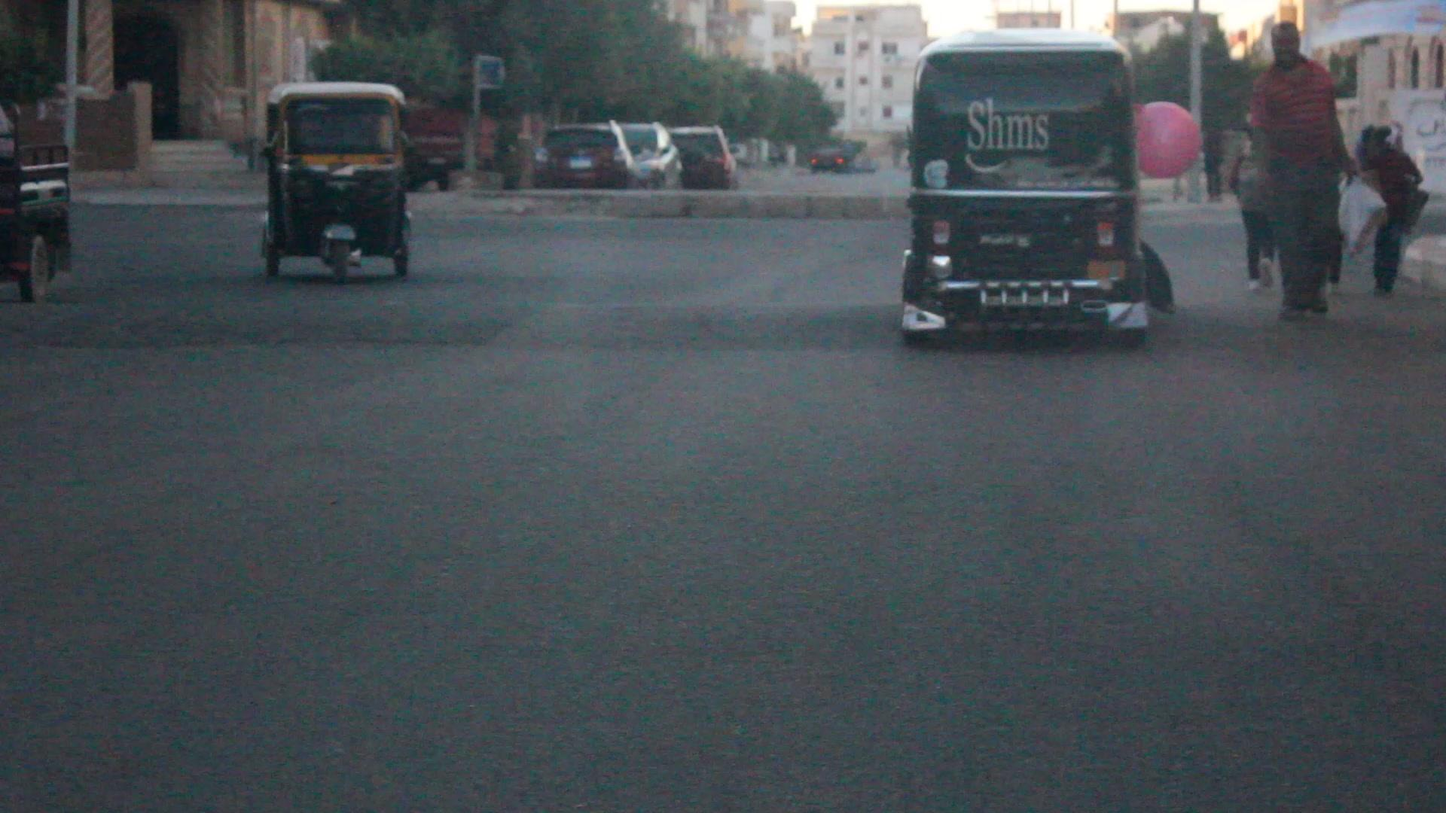Bump: (2, 292, 887, 361), (1156, 299, 1446, 352)
